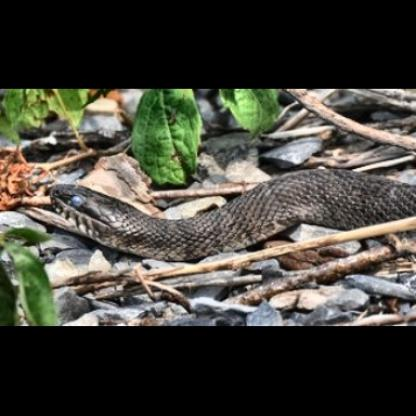Snake: (8, 102, 411, 281)
